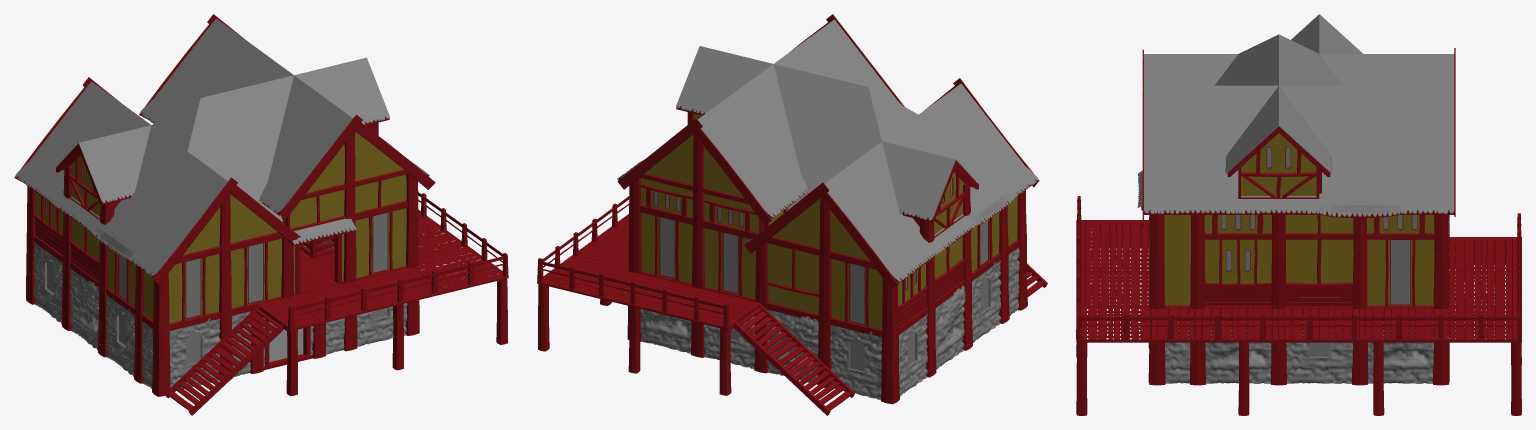
Rendered from SM_MH_01_House_11.fbx.
3 renders of one model, left to right at view 1: azimuth 30°, elevation 25°; view 2: azimuth 150°, elevation 25°; view 3: azimuth 270°, elevation 25°, orthographic. The views are drawn at different scales.
Visible parts, largest first — view 1: SM_MH_01_House_11_LOD0, SM_MH_01_House_11_Windows; view 2: SM_MH_01_House_11_LOD0, SM_MH_01_House_11_Windows; view 3: SM_MH_01_House_11_LOD0, SM_MH_01_House_11_Windows.
Part boxes in pixels (x1,y1,x2,y2): SM_MH_01_House_11_LOD0: (14, 14, 508, 415); SM_MH_01_House_11_Windows: (46, 161, 387, 363); SM_MH_01_House_11_LOD0: (537, 14, 1047, 415); SM_MH_01_House_11_Windows: (654, 178, 988, 370); SM_MH_01_House_11_LOD0: (1076, 14, 1521, 415); SM_MH_01_House_11_Windows: (1221, 147, 1416, 355).
Size of what is drawn, in the model's own units: 1573 by 1100 by 1652.
